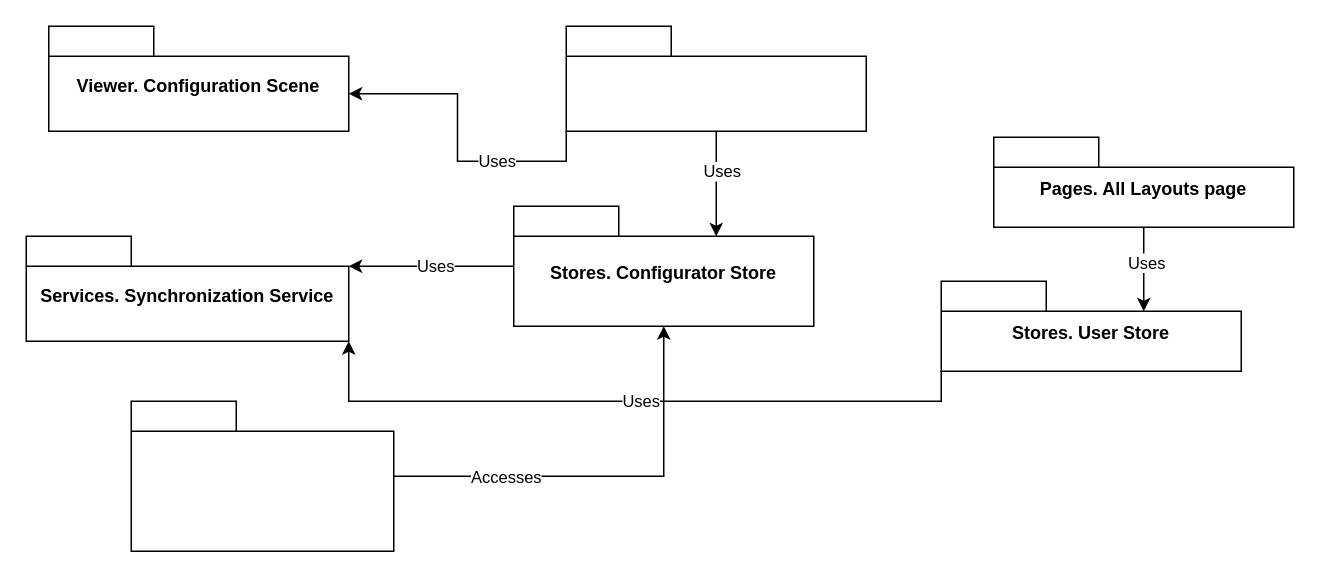
The diagram is 1320 pixels wide and 578 high, and some of its shapes have lost their labels. The box of each missing label's shape, as (x1, y1, x2, y2) in pixels:
Pages. Configurator Page: (565, 25, 866, 131)
Services. Order Service: (130, 400, 394, 551)
